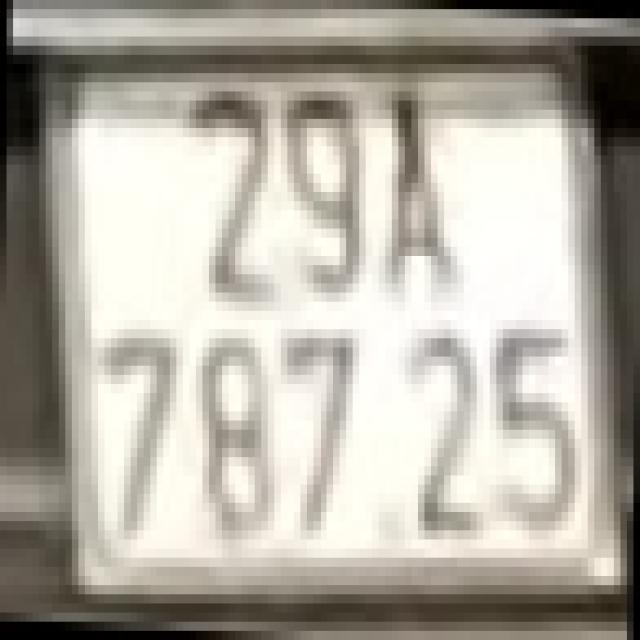2: (183, 82, 281, 302), (398, 329, 484, 540)
5: (490, 320, 581, 530)
7: (281, 320, 359, 539), (98, 329, 176, 540)
8: (196, 329, 274, 540)
9: (287, 82, 366, 302)
A: (378, 82, 464, 302)
